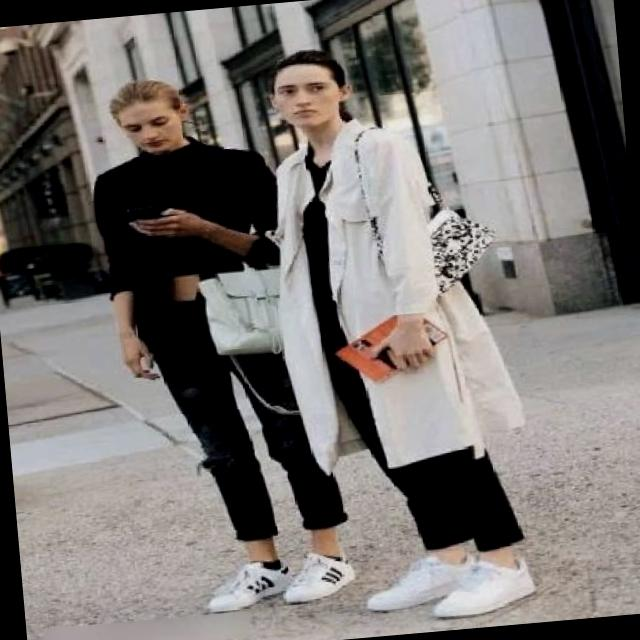Person: (270, 13, 536, 640), (80, 42, 337, 636)
